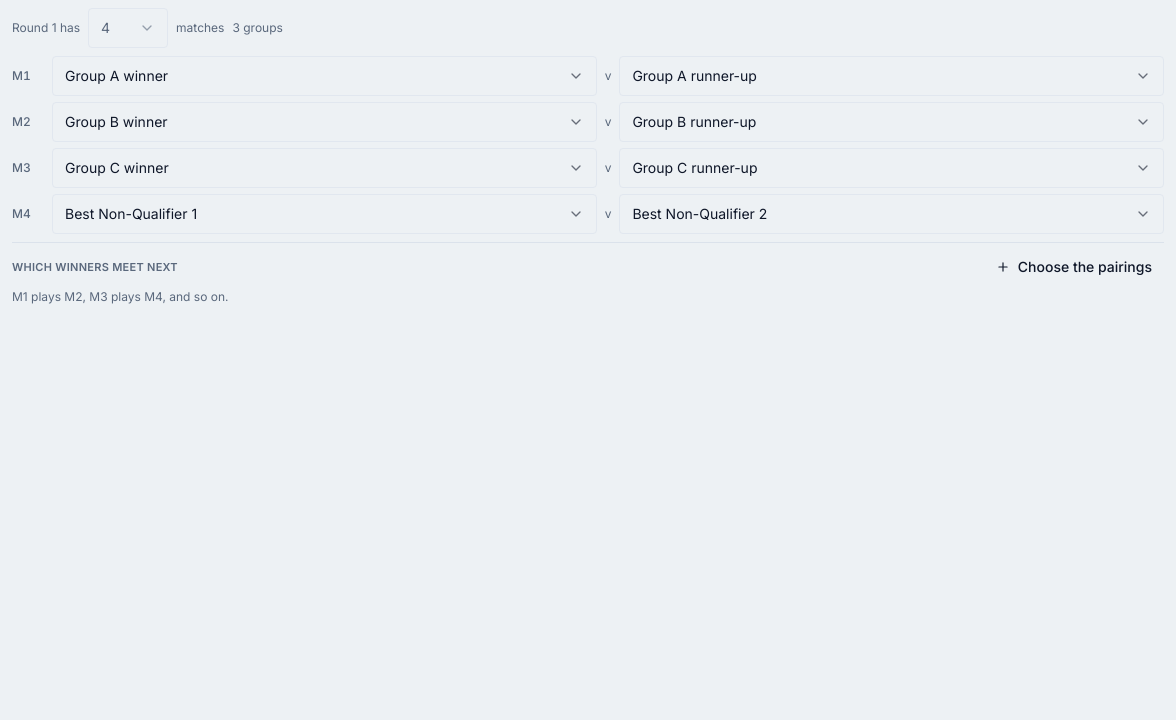
Test: BracketSheetEditor › keeps the plain tree until the organizer chooses the crossings
expect the text "M1 plays M2, M3 plays M4, and so on." is shown: met, box [12, 289, 228, 304]
Step 1. Click the button with test id "sheet-meets-toggle" → (1074, 267), box [984, 251, 1164, 283]
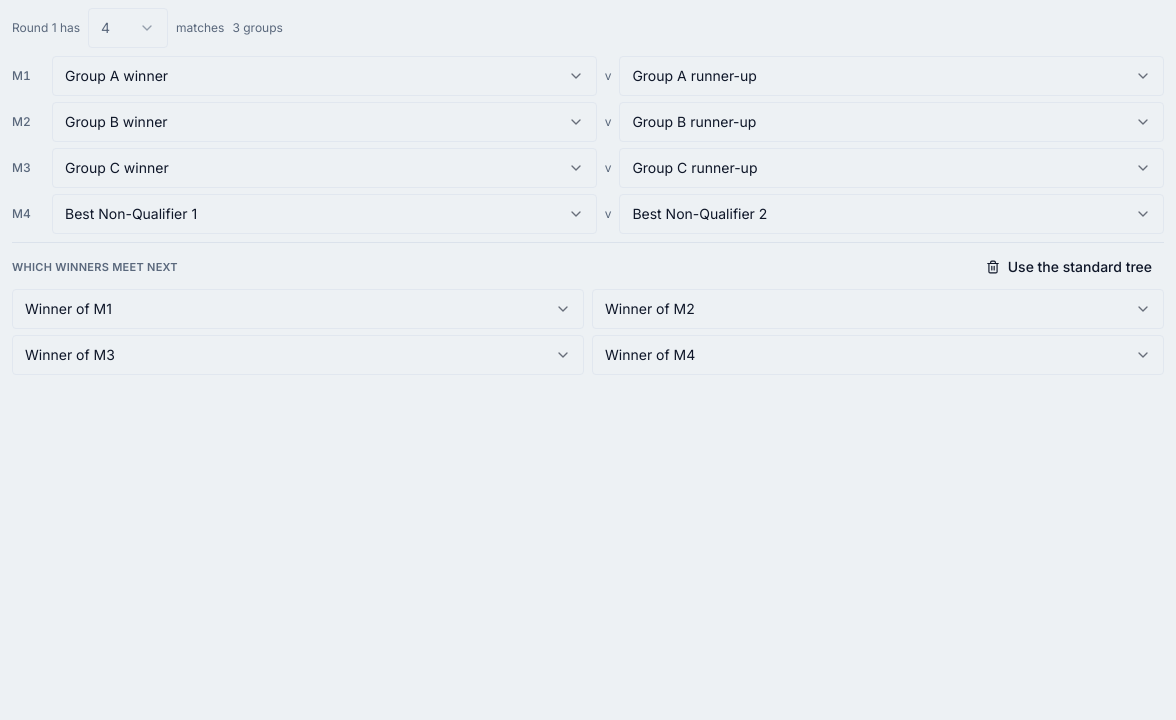
Step 2. Click the button "Winner of M2" → (650, 308), box [592, 289, 1164, 329]
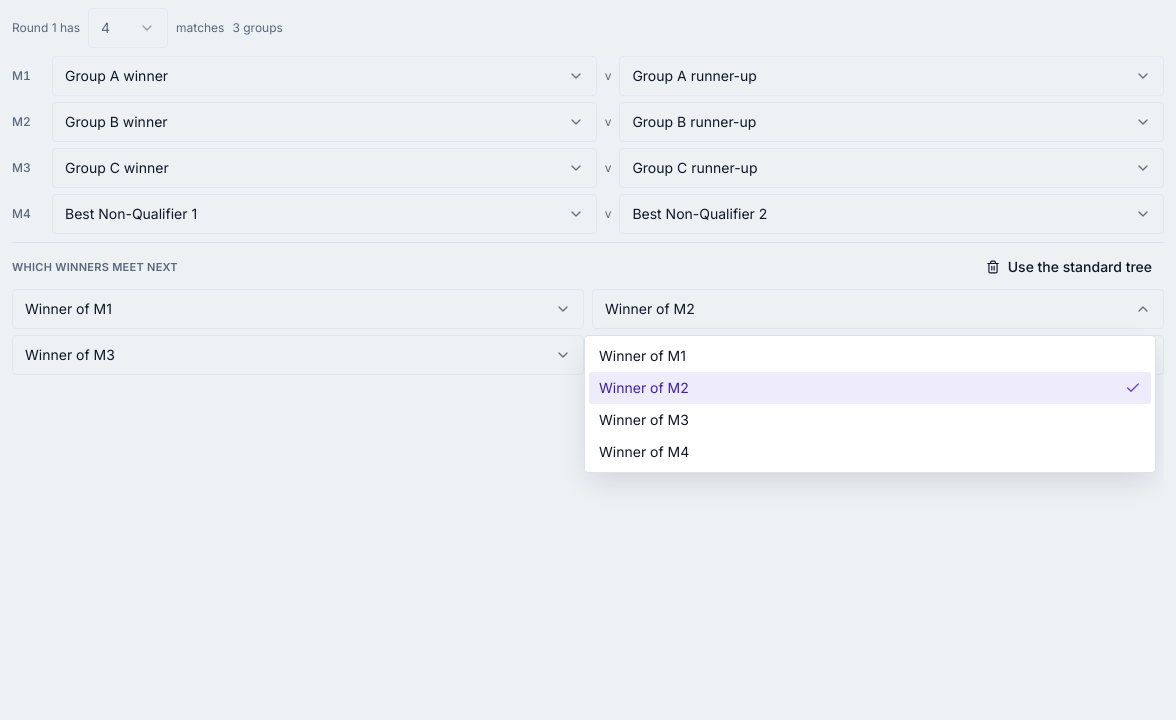
Step 3. Click the option "Winner of M3" → (644, 420), box [599, 411, 689, 428]
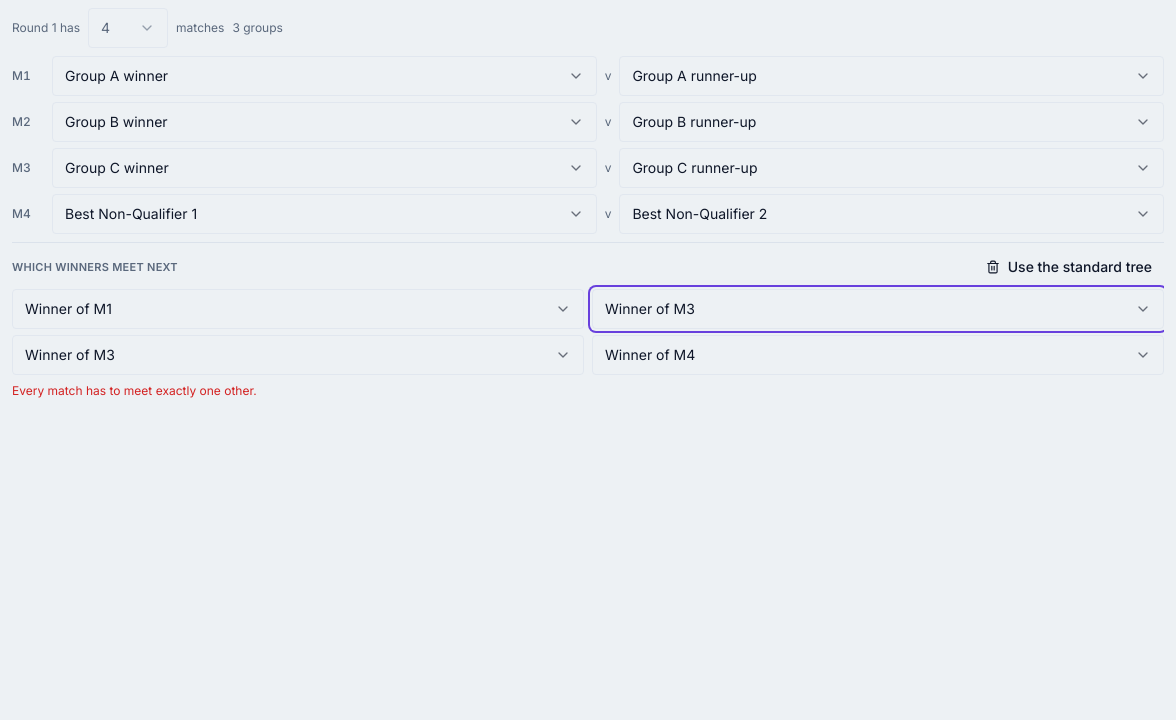
Step 4. Click the 2nd button "Winner of M3" → (70, 354), box [12, 335, 584, 375]
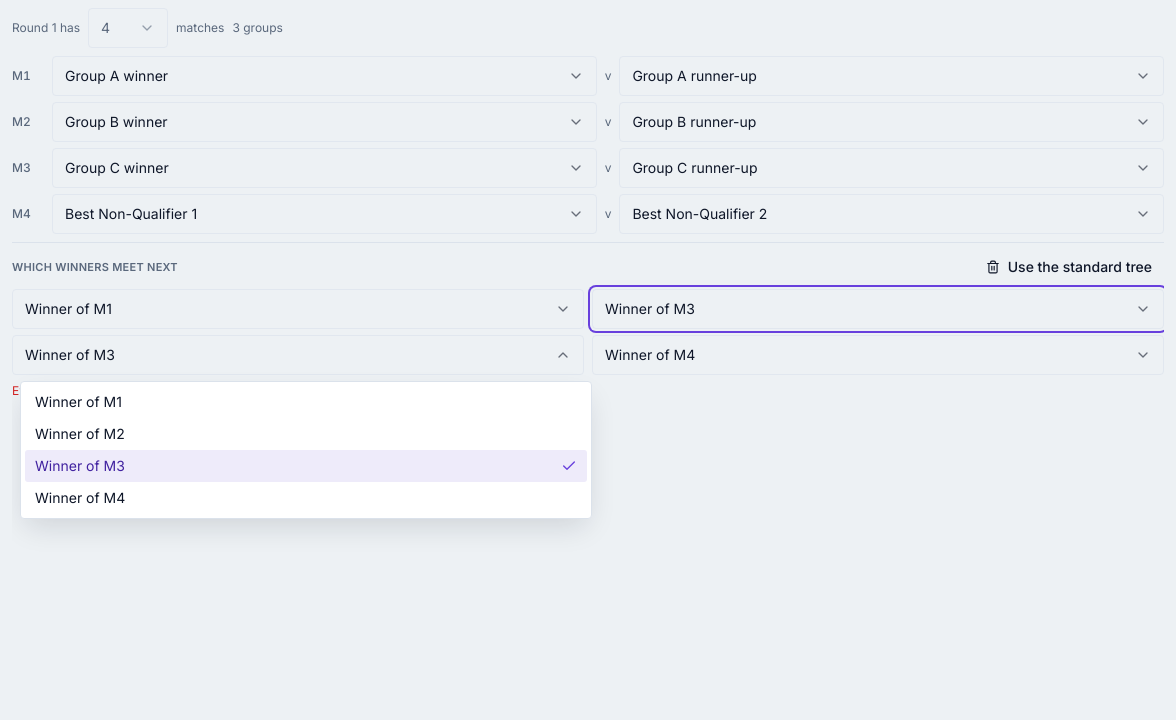
Step 5. Click the option "Winner of M2" → (80, 434), box [35, 425, 125, 442]
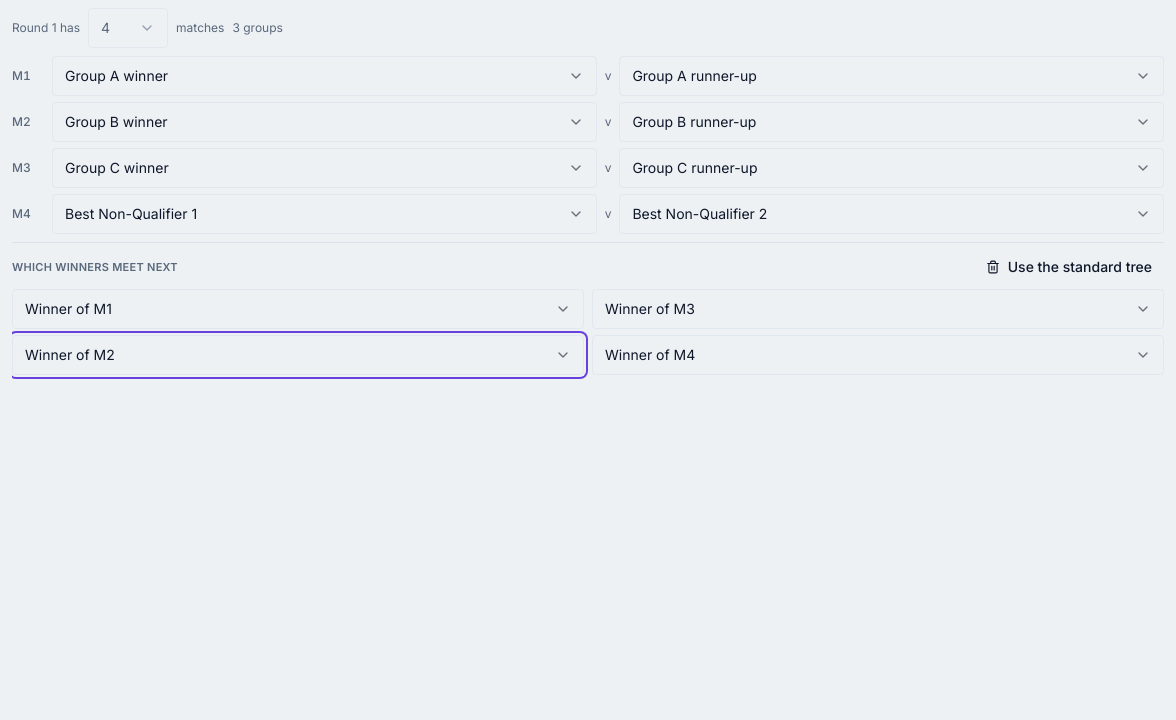
expect the list with test id "sheet-problems" is gone: met
